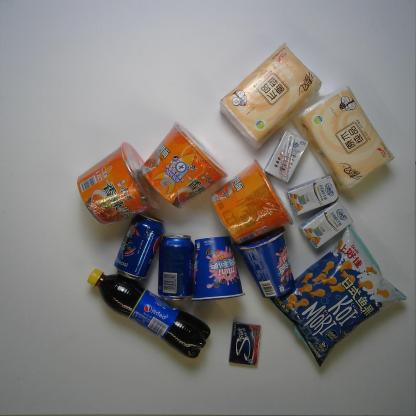Dessert: (232, 224, 296, 300), (191, 235, 246, 302)
Drink: (86, 267, 212, 360), (112, 211, 166, 282), (156, 233, 196, 303)
Gum: (228, 320, 262, 368)
Instant Noodles: (140, 119, 229, 211), (76, 140, 163, 228), (211, 158, 295, 245)
Milk: (298, 199, 354, 250), (263, 129, 309, 185), (284, 174, 340, 218)
Puffed Food: (270, 224, 408, 370)
Tissue: (219, 42, 323, 150), (292, 85, 396, 192)
